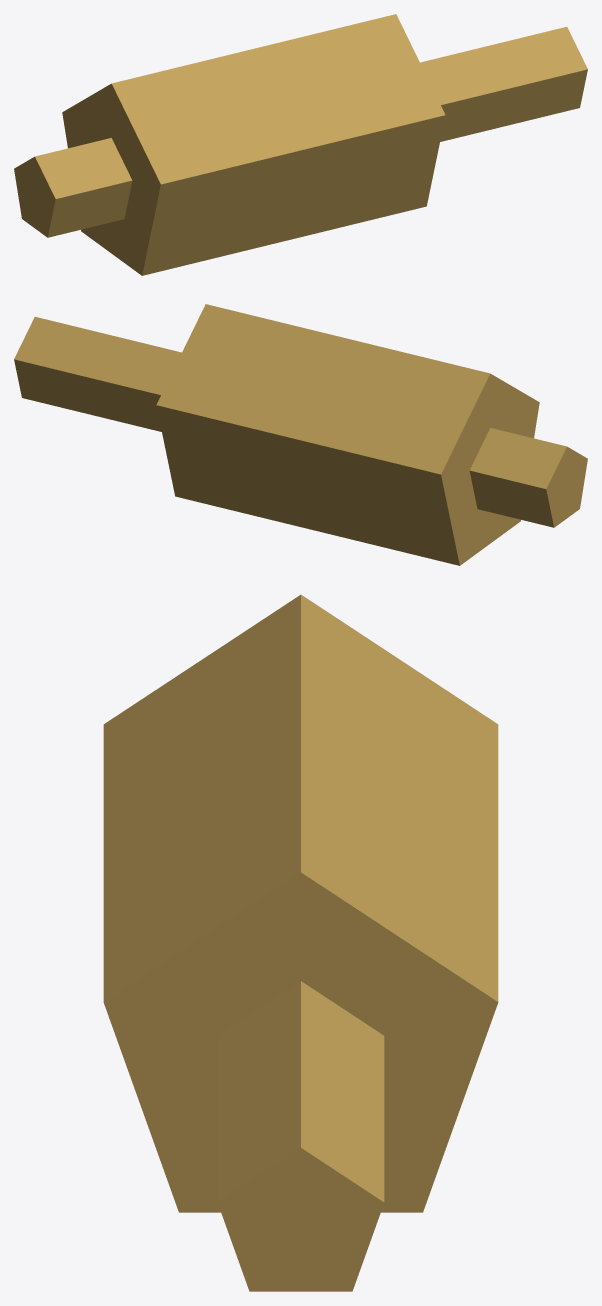
File: CrickietAboveStump1.fbx
3 renders of one model, top to bottom at view 1: azimuth 30°, elevation 25°; view 2: azimuth 150°, elevation 25°; view 3: azimuth 270°, elevation 25°, orthographic. The views are drawn at different scales.
Parts seen in each view (by area): view 1: CrickietAboveStump1; view 2: CrickietAboveStump1; view 3: CrickietAboveStump1.
Boxes of the visible parts, x1,y1,x2,y2 form: CrickietAboveStump1: (14,14,587,275); CrickietAboveStump1: (14,304,587,565); CrickietAboveStump1: (103,594,498,1291).
Bounding box in the file's own units: 8.89 × 2.71 × 2.85.
